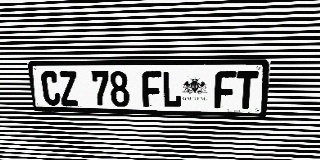7: (90, 71, 111, 106)
8: (109, 71, 130, 107)
C: (40, 71, 61, 105)
F: (214, 71, 236, 109), (142, 71, 162, 107)
L: (162, 71, 182, 108)
T: (235, 71, 259, 109)
Z: (58, 71, 79, 106)
